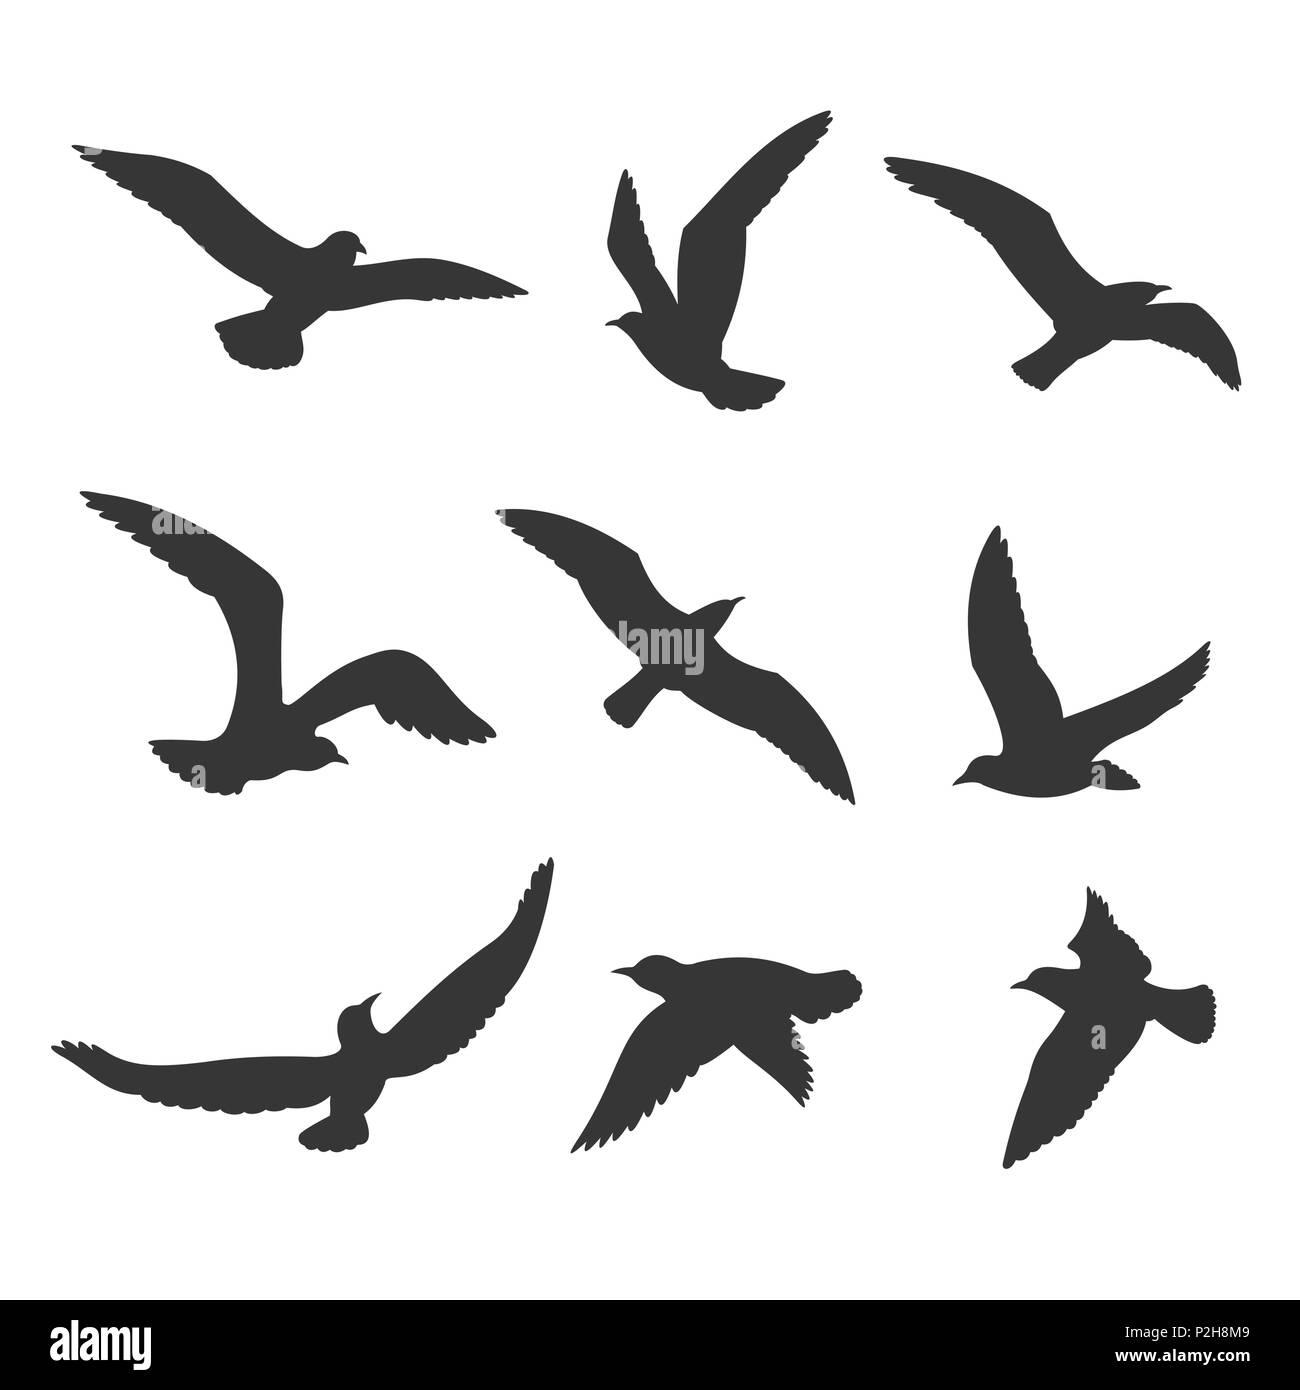bird: (39, 809, 556, 1184), (28, 79, 544, 386), (841, 126, 1280, 438)
